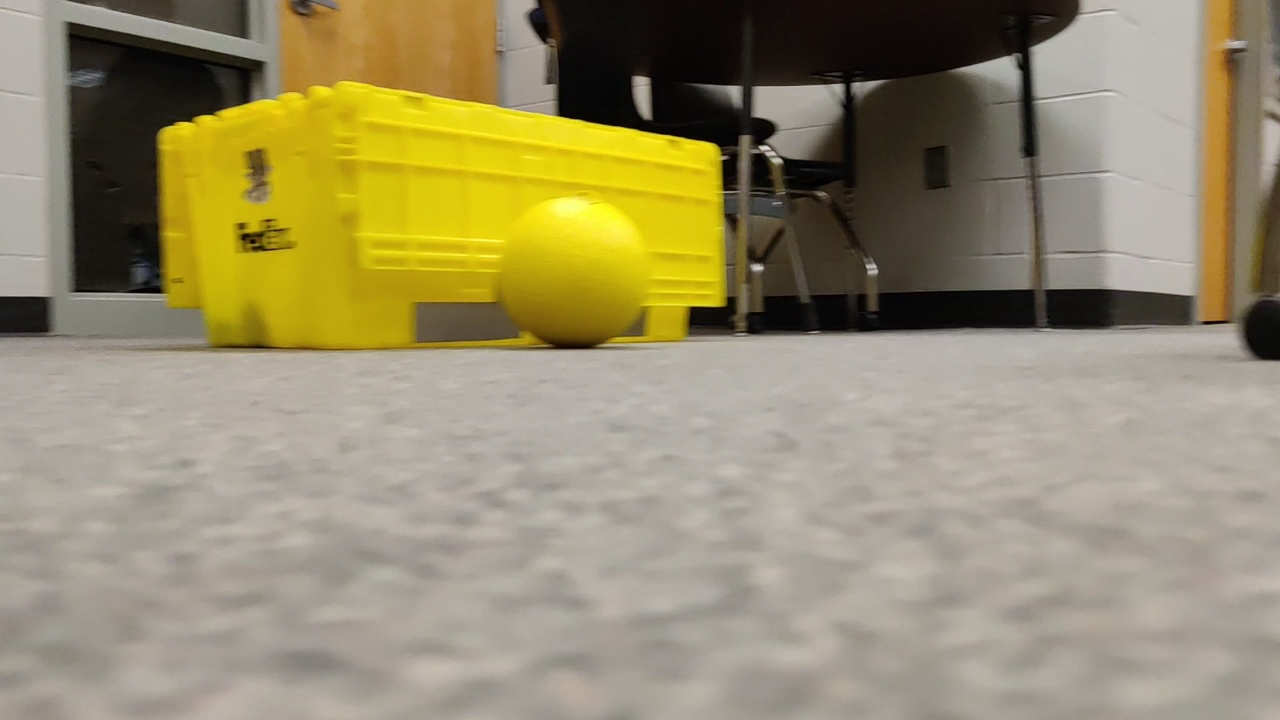Ball: (498, 198, 649, 342)
